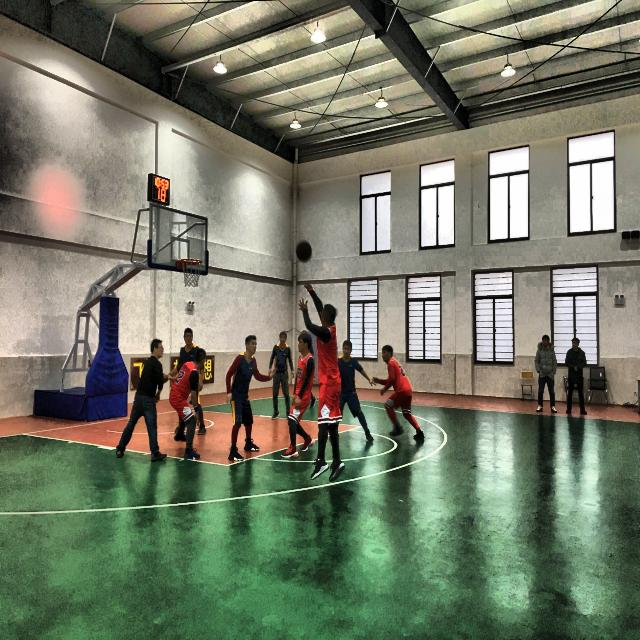rim: (182, 258, 202, 288)
